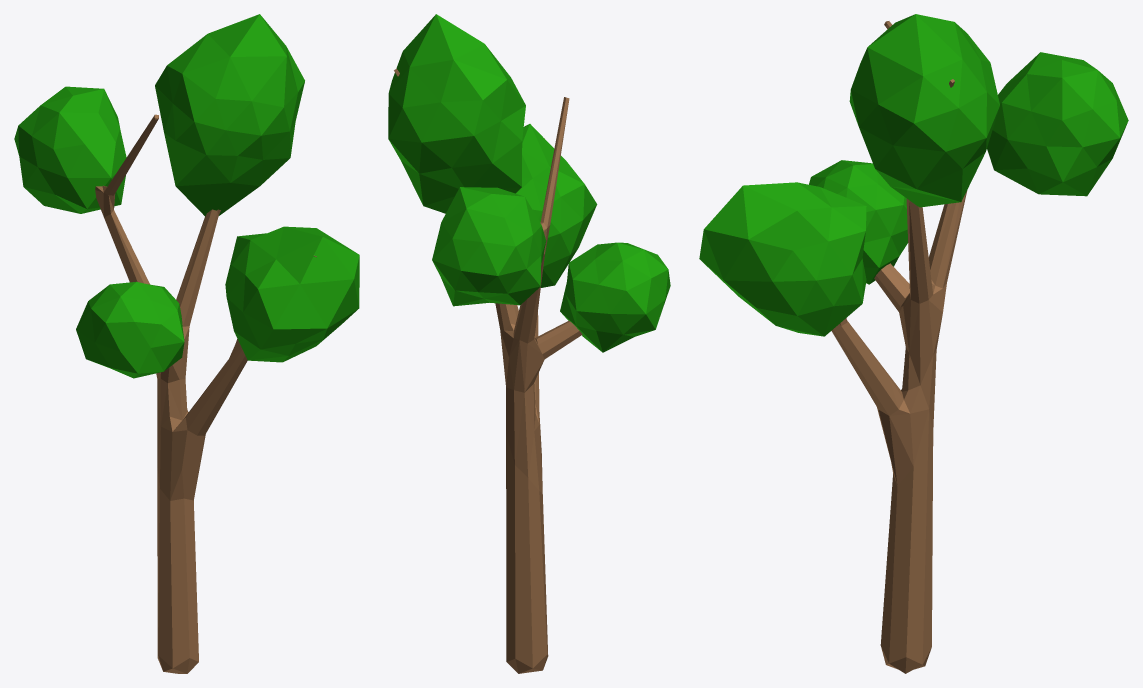
The model's file is Tree_3.fbx.
3 renders of one model, left to right at view 1: azimuth 30°, elevation 25°; view 2: azimuth 150°, elevation 25°; view 3: azimuth 270°, elevation 25°, orthographic. The views are drawn at different scales.
Visible parts, largest first — view 1: Tree3_mesh; view 2: Tree3_mesh; view 3: Tree3_mesh.
Boxes of the visible parts, <box> form: Tree3_mesh: <box>14,14,359,673</box>; Tree3_mesh: <box>388,14,670,673</box>; Tree3_mesh: <box>699,14,1128,673</box>.
Size of the model in its own units: 227 by 574 by 317.
